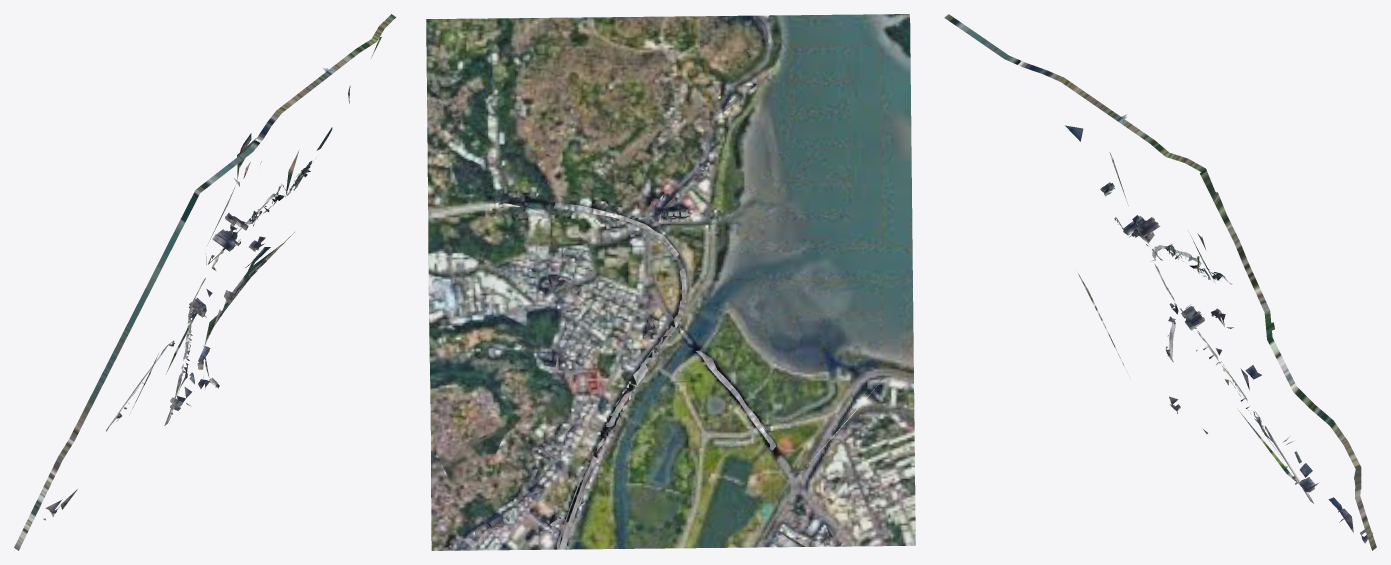
3 views of the same model, side by side, from view 1: azimuth 30°, elevation 25°; view 2: azimuth 150°, elevation 25°; view 3: azimuth 270°, elevation 25° (orthographic). The views are drawn at different scales.
Bounding box in the file's own units: 2403 × 2260 × 2077.
Materials: 1 (1 with a texture image).
